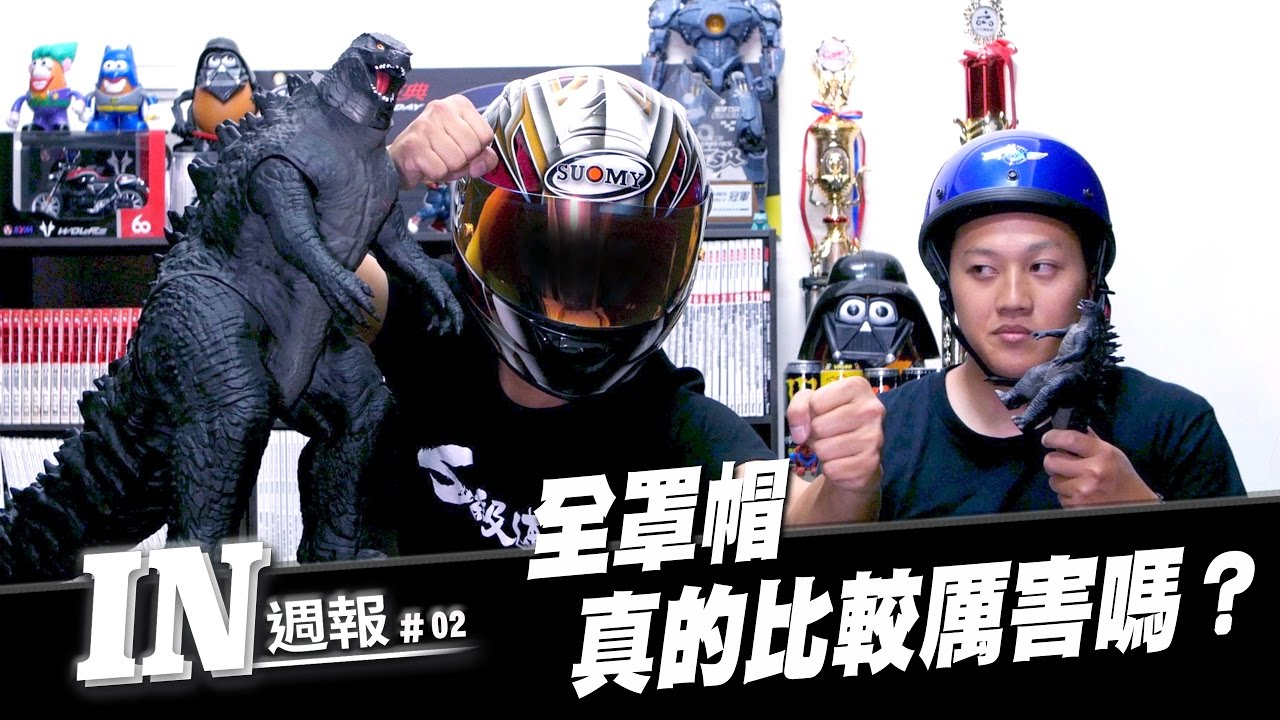helmet: (447, 81, 708, 398), (909, 133, 1125, 255)
